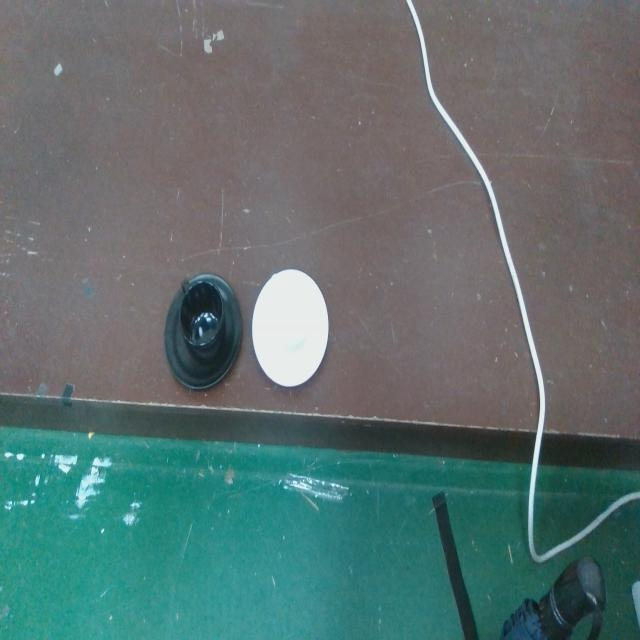black: (162, 268, 246, 394)
white: (250, 265, 331, 394)
